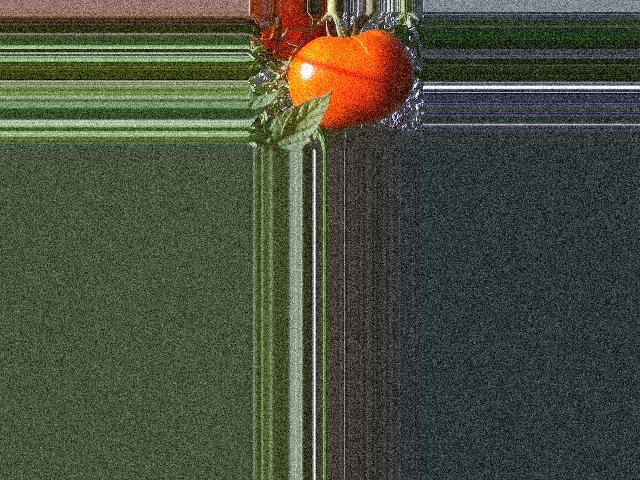tomato: (287, 29, 413, 129)
